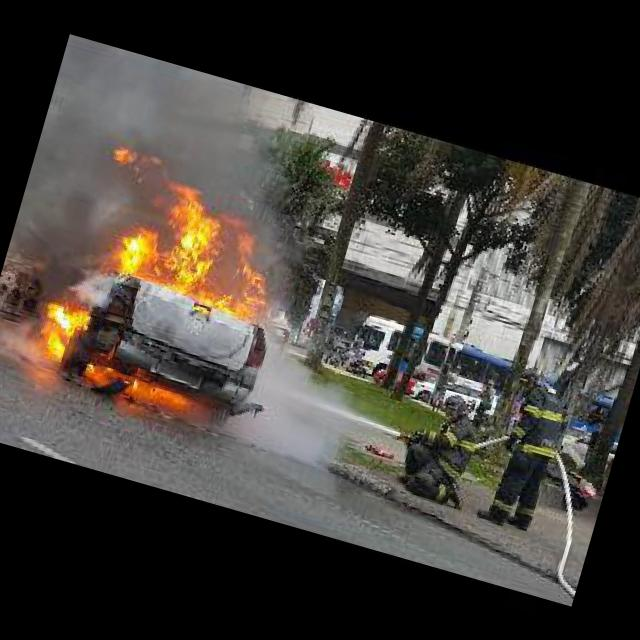fire: (77, 137, 303, 329), (29, 293, 212, 414)
smoke: (6, 36, 346, 332)
